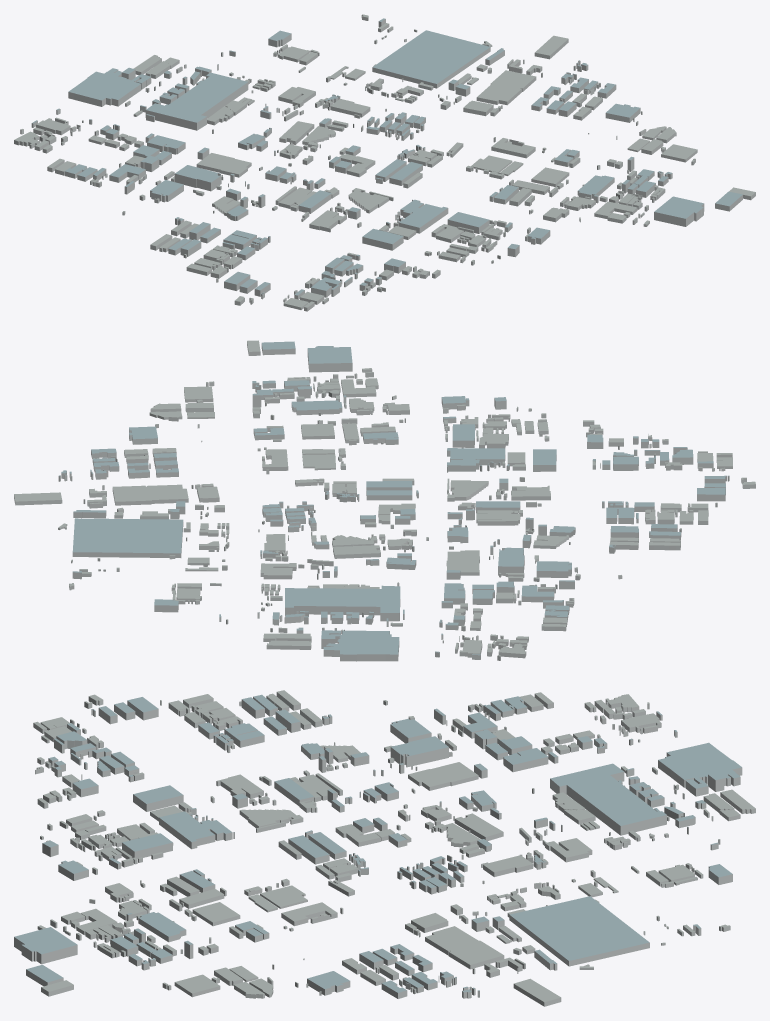
Rendered from far.glb.
The picture shows the model from 3 angles, top to bottom: view 1: azimuth 30°, elevation 25°; view 2: azimuth 150°, elevation 25°; view 3: azimuth 270°, elevation 25°; orthographic projection. The views are drawn at different scales.
Bounding box in the file's own units: 2201 × 46.35 × 2216.
